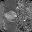people: (5, 10, 17, 23)
